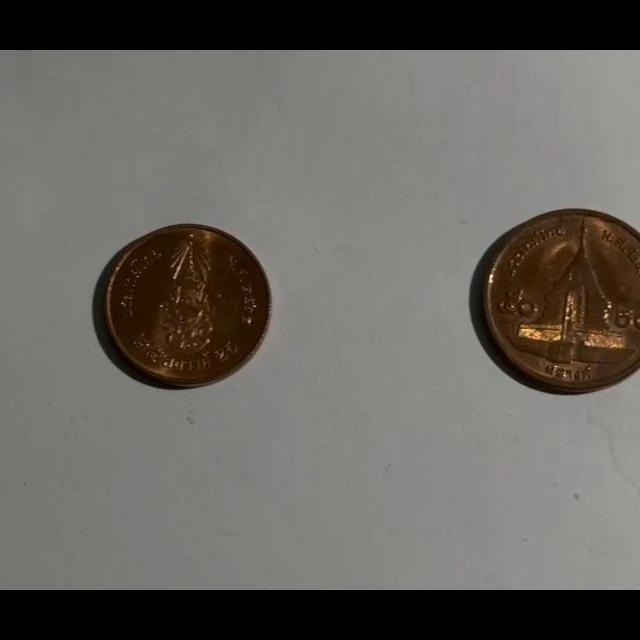25-satang: (102, 226, 270, 387)
50-satang: (476, 210, 640, 391)
